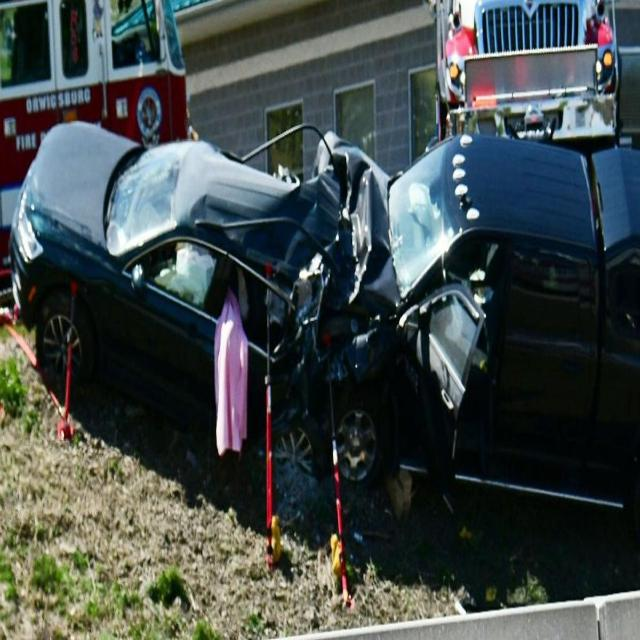severe: (8, 117, 637, 567)
